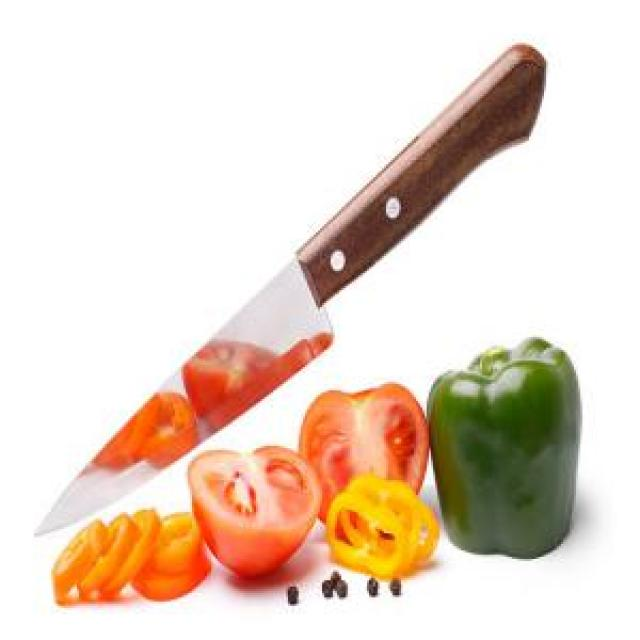knife: (32, 44, 549, 538)
